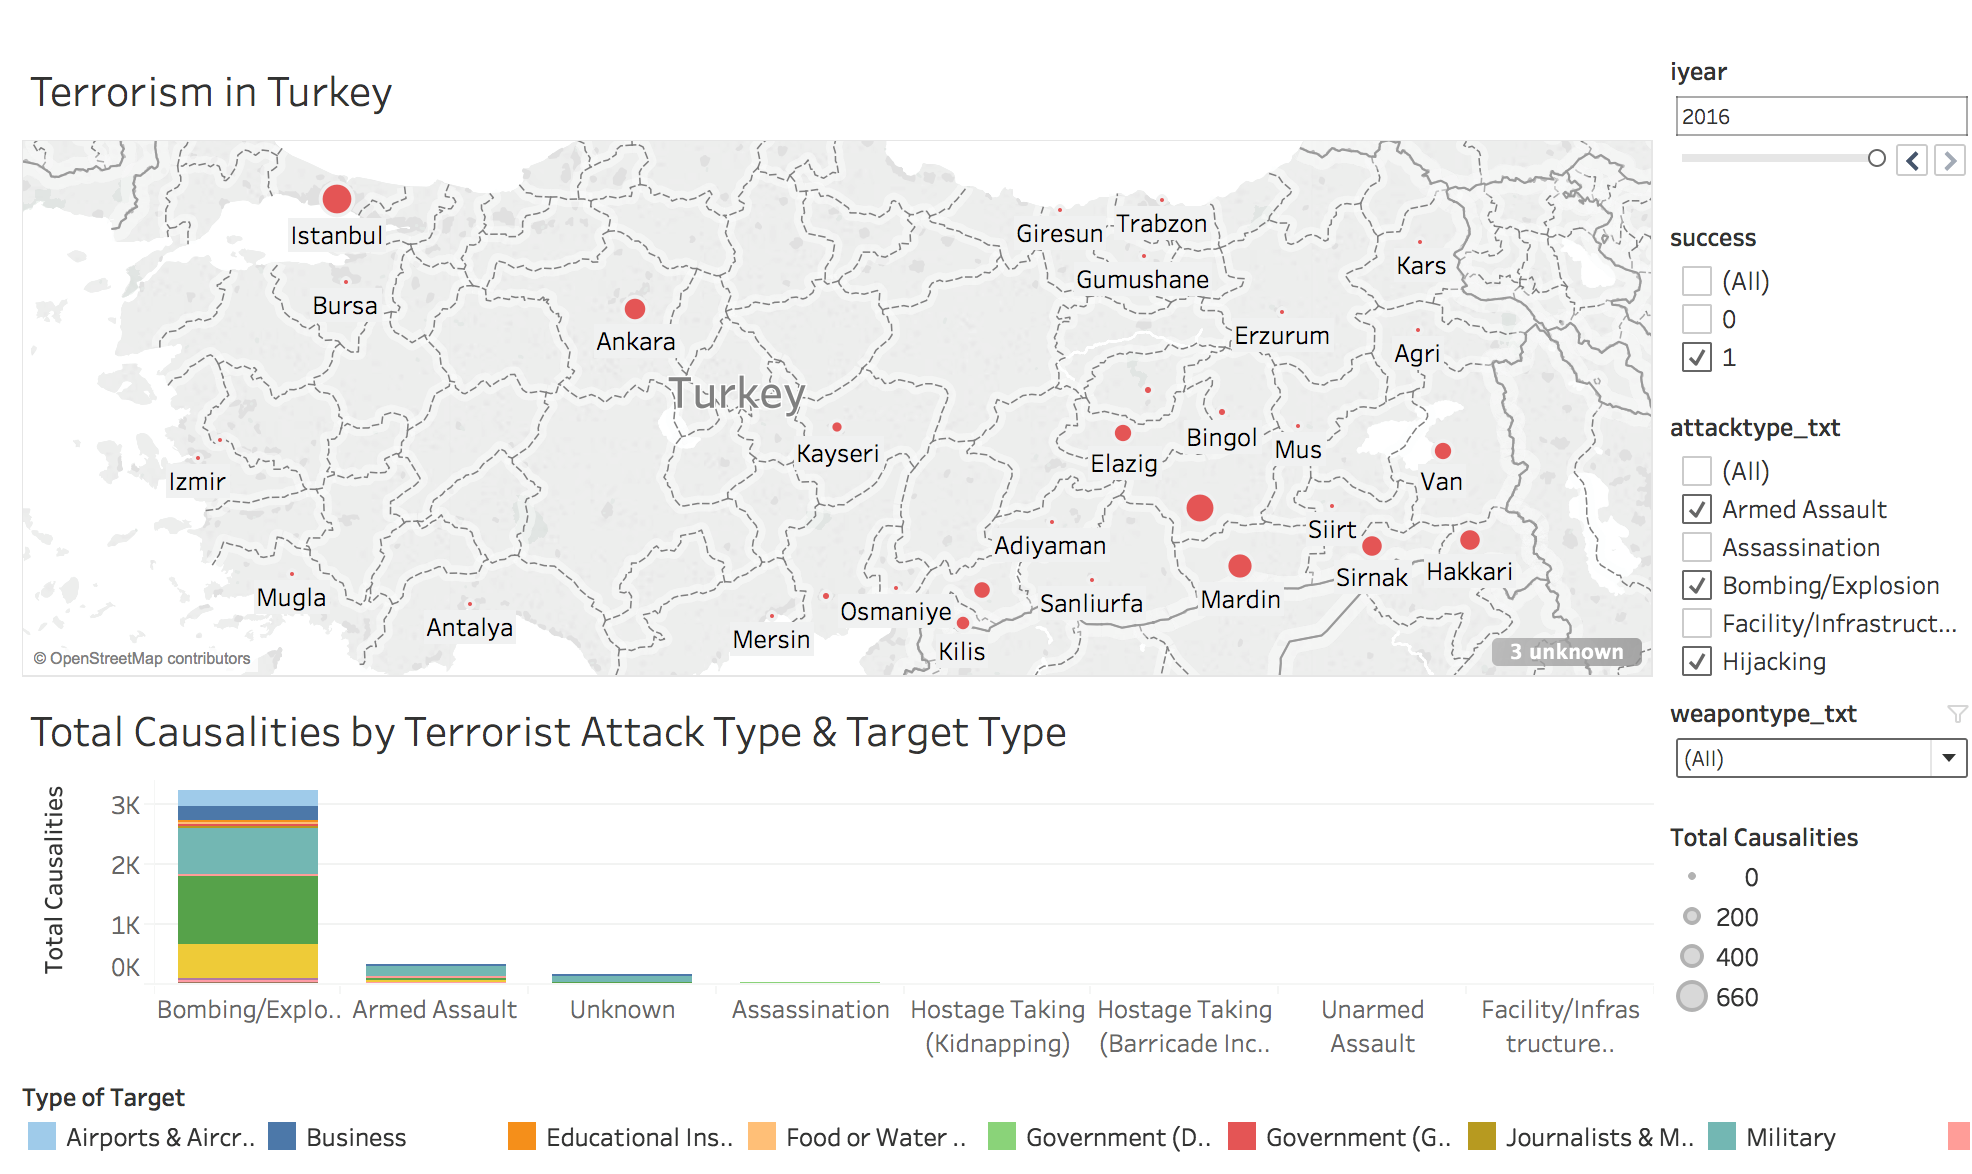

What the dashboard file says about the page in this screenshot:
{"tool":"tableau","page":{"name":"Dashboard 1","canvas":[1000,800],"ordinal":0},"visuals":[{"type":"worksheet","title":"Sheet 1","mark":"Automatic","rows":["latitude"],"cols":["longitude"],"box":[8,8,824,784]},{"type":"filter","title":"Sheet 1","param":"[federated.0r33ruc1mmh9n51cb5izi0kvz6ea].[none:iyear:ok]","box":[832,8,160,75]},{"type":"filter","title":"Sheet 1","param":"[federated.0r33ruc1mmh9n51cb5izi0kvz6ea].[none:success:ok]","box":[832,83,160,89]},{"type":"filter","title":"Sheet 1","param":"[federated.0r33ruc1mmh9n51cb5izi0kvz6ea].[none:attacktype_txt:nk]","box":[832,172,160,52]},{"type":"legend","title":"Sheet 1","param":"[federated.0r33ruc1mmh9n51cb5izi0kvz6ea].[none:attacktype_txt:nk]","box":[832,224,160,126]},{"type":"legend","title":"Sheet 1","param":"[federated.0r33ruc1mmh9n51cb5izi0kvz6ea].[sum:Calculation_5759541039107858432:qk","box":[832,350,160,166]}]}

Visuals, with their boxes on the page's 1000x800 design canvas (x1, y1, x2, y2). These are canvas units, not pixel positions in the 1972x1174 screenshot, which may show the page scaled, cropped or inside an application window:
"Sheet 1" worksheet: bbox=(8, 8, 832, 792)
"Sheet 1" filter: bbox=(832, 8, 992, 83)
"Sheet 1" filter: bbox=(832, 83, 992, 172)
"Sheet 1" filter: bbox=(832, 172, 992, 224)
"Sheet 1" legend: bbox=(832, 224, 992, 350)
"Sheet 1" legend: bbox=(832, 350, 992, 516)
